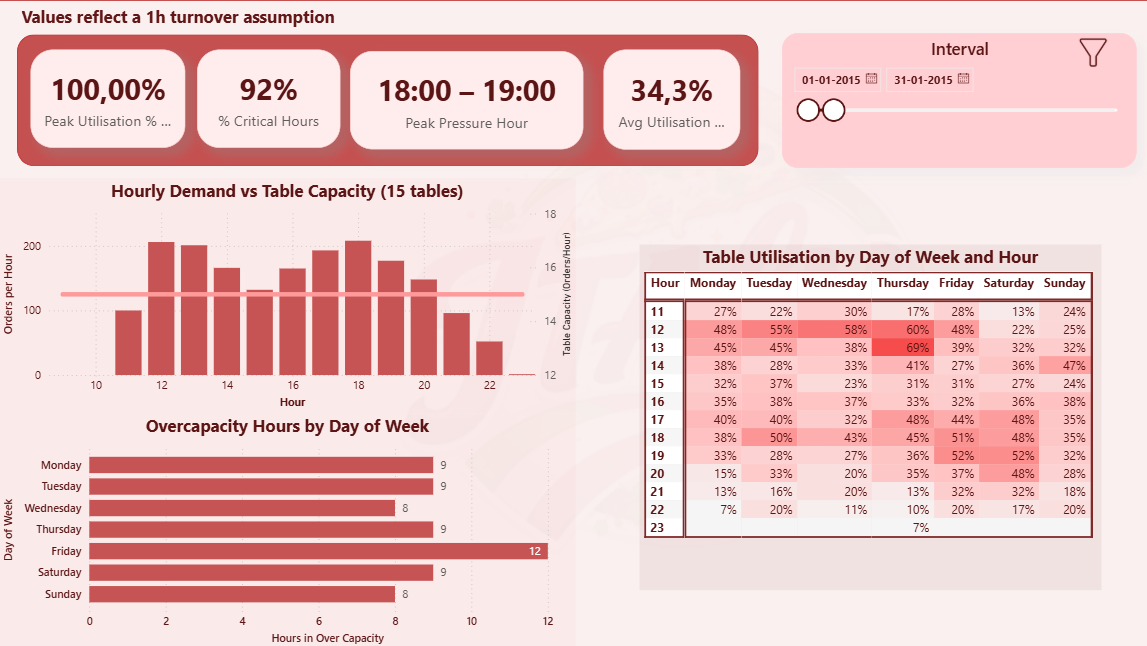

This screenshot's page, from the dashboard's own definition file:
{"tool":"powerbi","page":{"name":"Page 5 - Capacity & Operations","canvas":[1280,720],"ordinal":4},"visuals":[{"type":"textbox","box":[20.4,0,455.5,35.2],"z":0},{"type":"image","box":[208,0,1072,720],"z":1000},{"type":"shape","box":[0,0,1280,719.7],"z":2000},{"type":"shape","box":[20.4,38.9,823.9,146.3],"z":3000},{"type":"card","fields":{"Values":["Medidas.Peak Utilisation %"]},"box":[35.2,55.5,172.2,109.2],"z":4000},{"type":"card","fields":{"Values":["Medidas.% Critical Hours"]},"box":[220.3,55.5,159.2,109.2],"z":5000},{"type":"card","fields":{"Values":["Medidas.Peak Pressure Hour"]},"box":[390.7,57.4,259.2,109.2],"z":6000},{"type":"slicer","title":"Interval","fields":{"Values":["Calendar.Date"]},"box":[870,36,394,150],"z":7000},{"type":"card","fields":{"Values":["Medidas.Avg Utilisation %"]},"box":[672.1,55.5,151.8,111.1],"z":8000},{"type":"lineClusteredColumnComboChart","title":"Hourly Demand vs Table Capacity (15 tables)","fields":{"Category":["orders.Hour"],"Y":["Medidas.Orders per hour (count)"],"Y2":["Medidas.Table Capacity (Orders/Hour)"]},"box":[0,198.1,640.6,261.1],"z":9000},{"type":"pivotTable","title":"Table Utilisation by Day of Week and Hour","fields":{"Rows":["orders.Hour"],"Columns":["orders.Day of Week"],"Values":["Medidas.Avg Table Utilisation % (Heatmap)"]},"box":[712.5,272,513.3,383.8],"z":10000},{"type":"barChart","title":"Overcapacity Hours by Day of Week","fields":{"Category":["orders.Day of Week"],"Y":["Medidas.Overcapacity Hours"]},"box":[0,459.2,640.6,261.1],"z":11000},{"type":"image","box":[1180,40,70,38],"z":12000}]}

Visuals, with their boxes in screenshot pixels (x1, y1, x2, y2), scaled from the page's 1280x720 canvas onto the 1147x646 screenshot:
textbox: left=18, top=0, right=426, bottom=32
image: left=186, top=0, right=1146, bottom=645
shape: left=0, top=0, right=1146, bottom=645
shape: left=18, top=35, right=757, bottom=166
card - Medidas.Peak Utilisation %: left=32, top=50, right=186, bottom=148
card - Medidas.% Critical Hours: left=197, top=50, right=340, bottom=148
card - Medidas.Peak Pressure Hour: left=350, top=52, right=582, bottom=149
"Interval" slicer: left=780, top=32, right=1133, bottom=167
card - Medidas.Avg Utilisation %: left=602, top=50, right=738, bottom=149
"Hourly Demand vs Table Capacity (15 tables)" lineClusteredColumnComboChart: left=0, top=178, right=574, bottom=412
"Table Utilisation by Day of Week and Hour" pivotTable: left=638, top=244, right=1098, bottom=588
"Overcapacity Hours by Day of Week" barChart: left=0, top=412, right=574, bottom=645
image: left=1057, top=36, right=1120, bottom=70
